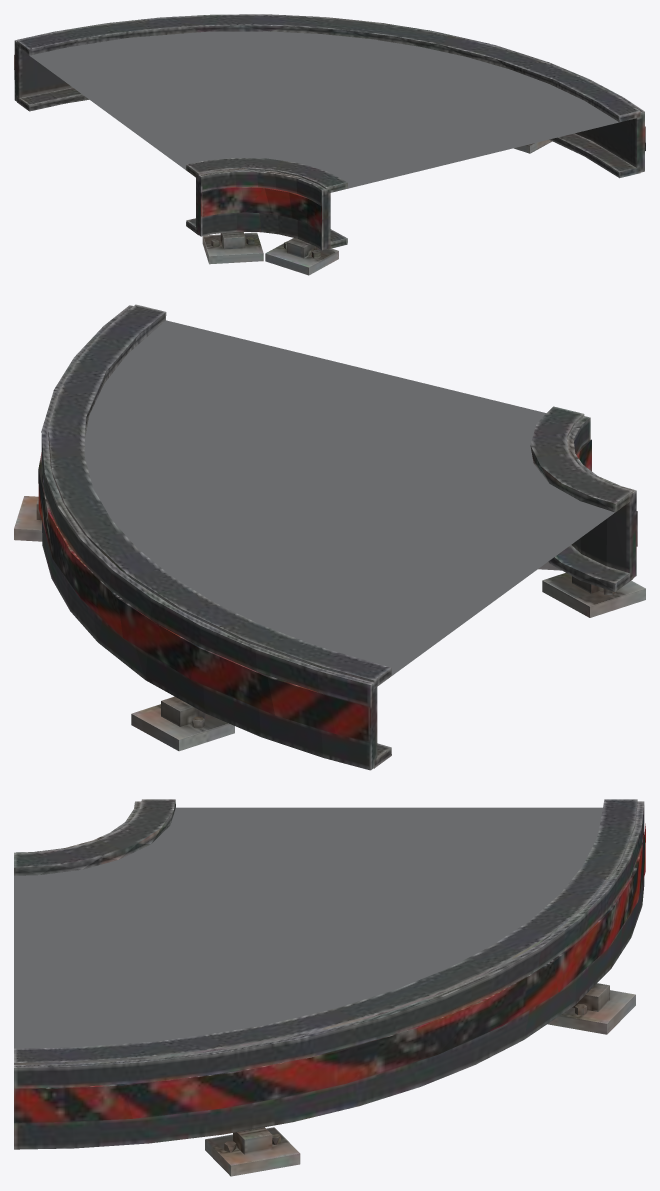
Rendered from esteira_curva_esq_rapida.glb.
3 renders of one model, top to bottom at view 1: azimuth 30°, elevation 25°; view 2: azimuth 150°, elevation 25°; view 3: azimuth 270°, elevation 25°, orthographic. The views are drawn at different scales.
Visible parts, largest first — view 1: esteira_curva_esq_rapida_corpo; view 2: esteira_curva_esq_rapida_corpo; view 3: esteira_curva_esq_rapida_corpo.
Part boxes in pixels (left/top/right/bottom): esteira_curva_esq_rapida_corpo: left=14, top=14, right=645, bottom=275; esteira_curva_esq_rapida_corpo: left=14, top=304, right=645, bottom=770; esteira_curva_esq_rapida_corpo: left=14, top=799, right=645, bottom=1176.
Size of the model in its own units: 0.841 by 0.168 by 0.841.
2 materials, 1 textured.
